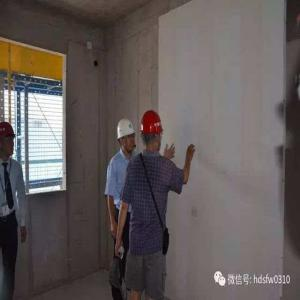red: (139, 108, 166, 156), (2, 121, 17, 160)
white: (116, 117, 137, 154)
